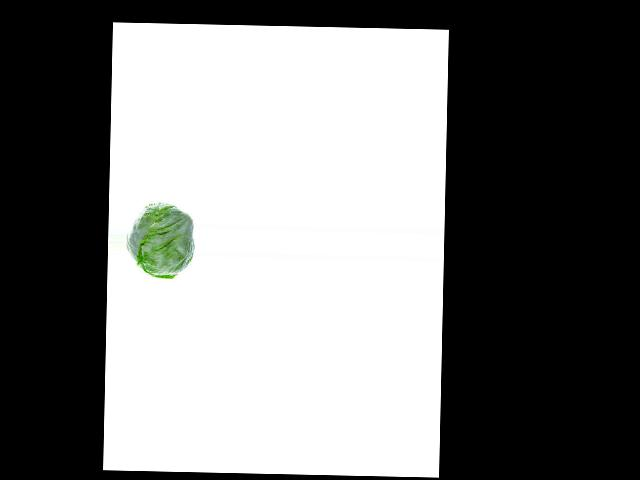lettuce: (127, 202, 191, 277)
